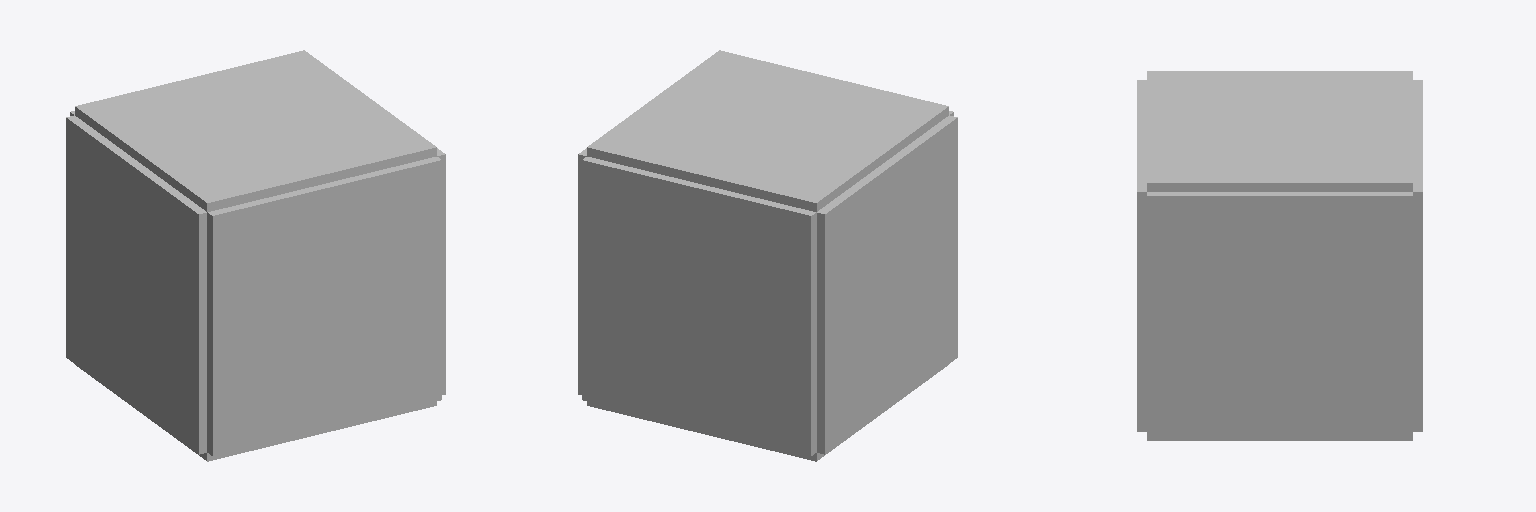
Rendered from Mirror333_hitbox.obj.
3 views of the same model, side by side, from view 1: azimuth 30°, elevation 25°; view 2: azimuth 150°, elevation 25°; view 3: azimuth 270°, elevation 25° (orthographic).
Visible parts, largest first — view 1: FUL, FL, FDL, FU, FUR, FD, F, FDR, FR, LUF, UFL, LF (+15 smaller); view 2: BUL, BL, BDL, BU, BUR, BD, B, BDR, BR, LUB, UBL, LB (+15 smaller); view 3: RUF, RUB, RU, RF, RB, RDF, RDB, RD, R, UBR, UFR, UR (+12 smaller).
Part boxes in pixels (x1,y1,x2,y2): FUL: (207, 194, 288, 295); FL: (207, 278, 288, 375); FDL: (207, 358, 288, 455); FU: (285, 175, 365, 276); FUR: (361, 157, 441, 258); FD: (289, 339, 365, 437); F: (289, 259, 365, 356); FDR: (366, 320, 441, 418); FR: (366, 240, 441, 338); LUF: (155, 180, 206, 293); UFL: (163, 152, 283, 211); LF: (155, 263, 206, 374); BUL: (735, 194, 816, 295); BL: (735, 278, 816, 375); BDL: (735, 358, 816, 455); BU: (658, 175, 738, 276); BUR: (582, 157, 662, 258); BD: (658, 339, 734, 437); B: (658, 259, 734, 356); BDR: (582, 320, 657, 418); BR: (582, 240, 657, 338); LUB: (817, 180, 868, 293); UBL: (740, 152, 860, 211); LB: (817, 263, 868, 374); RUF: (1147, 192, 1235, 275); RUB: (1324, 192, 1412, 275); RU: (1236, 192, 1323, 275); RF: (1147, 276, 1235, 355); RB: (1324, 276, 1412, 355); RDF: (1147, 356, 1235, 435); RDB: (1324, 356, 1412, 435); RD: (1236, 356, 1323, 435); R: (1236, 276, 1323, 355); UBR: (1324, 145, 1412, 191); UFR: (1147, 145, 1235, 191); UR: (1236, 145, 1323, 191).
Bounding box in the file's own units: 3.23 × 3.23 × 3.23.